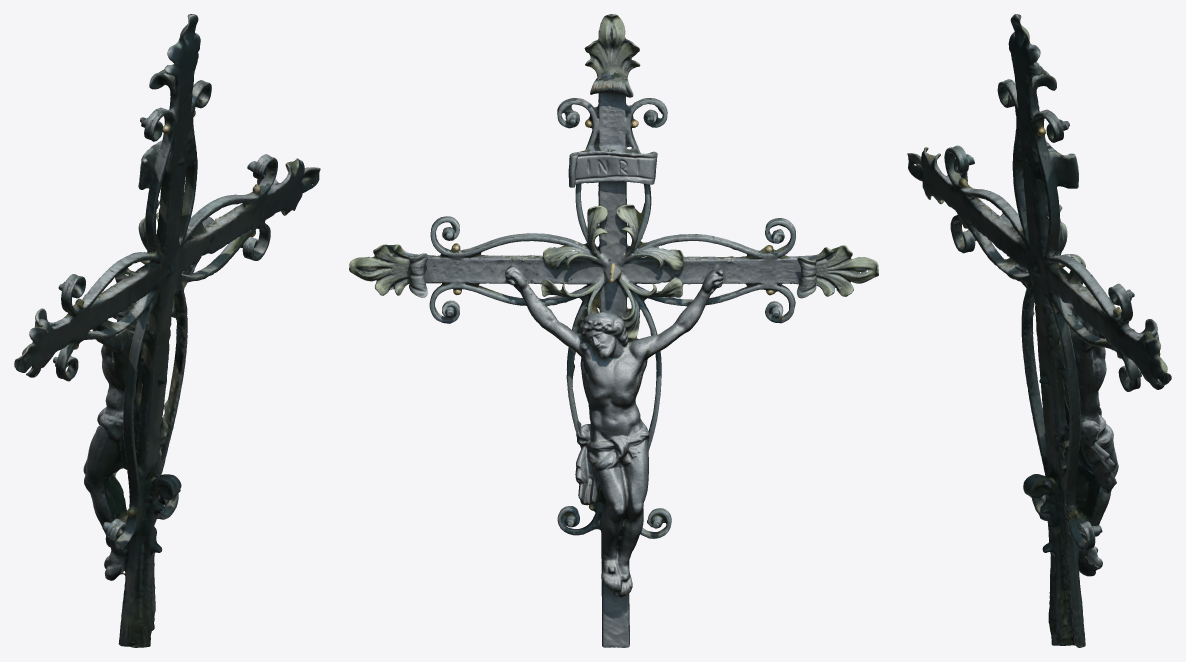
File: sketchfabTemp.obj.fbx
3 renders of one model, left to right at view 1: azimuth 30°, elevation 25°; view 2: azimuth 150°, elevation 25°; view 3: azimuth 270°, elevation 25°, orthographic. The views are drawn at different scales.
Parts seen in each view (by area): view 1: Stereo textured mesh; view 2: Stereo textured mesh; view 3: Stereo textured mesh.
Part boxes in pixels (<box>): Stereo textured mesh: <box>14,14,320,647</box>; Stereo textured mesh: <box>349,14,878,647</box>; Stereo textured mesh: <box>907,14,1171,647</box>.
Bounding box in the file's own units: 707 × 1000 × 373.
1 material, 1 textured.
